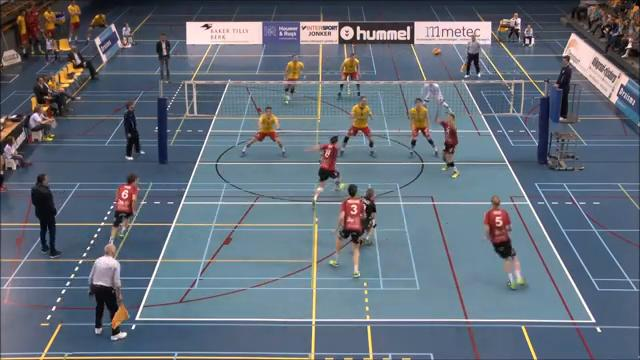Player: (484, 196, 525, 288), (329, 184, 364, 277), (307, 136, 340, 205), (241, 106, 285, 156), (340, 96, 375, 156), (109, 173, 138, 242), (409, 98, 437, 156), (422, 83, 449, 121), (284, 55, 303, 103), (362, 187, 376, 244), (338, 83, 343, 97)
Set: (433, 106, 463, 182)
ball: (432, 48, 441, 56)
